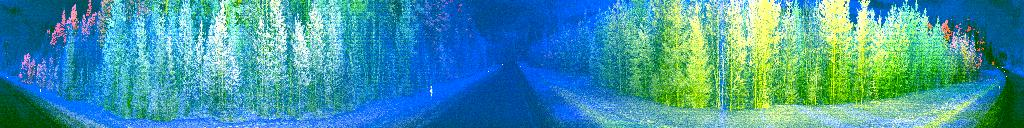pole: (430, 84, 433, 100), (998, 83, 1001, 95)
